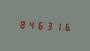eight: (17, 18, 25, 29)
four: (26, 19, 34, 30)
one: (54, 20, 62, 31)
six: (63, 20, 71, 32), (36, 19, 44, 30)
three: (45, 20, 53, 31)
